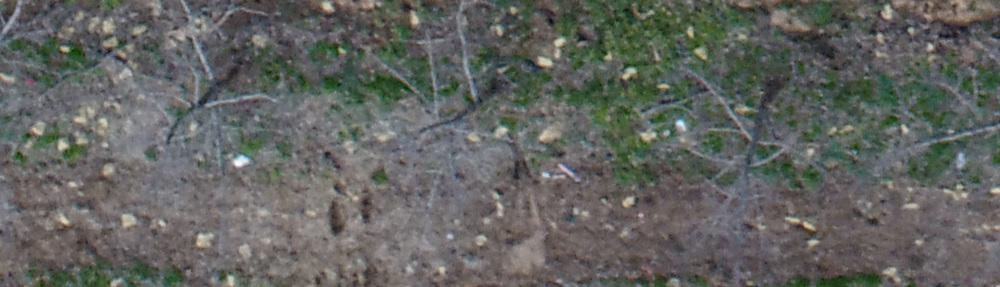apple: (338, 10, 569, 207), (634, 36, 840, 254), (93, 10, 319, 204)
